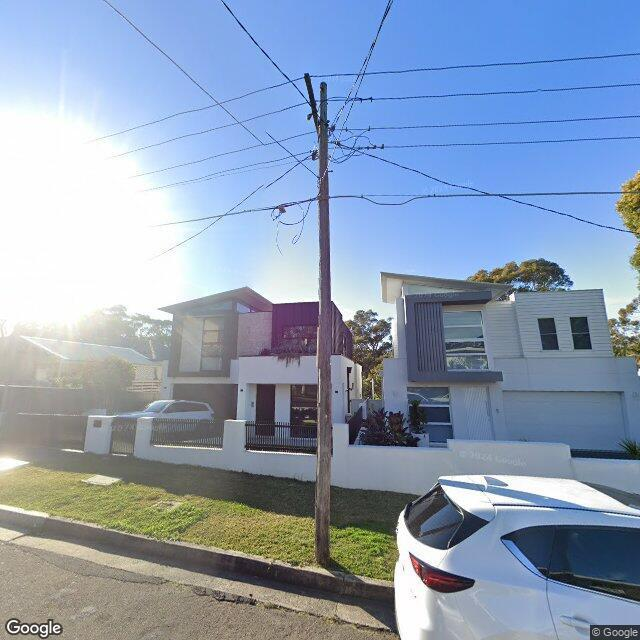crossarm: (302, 72, 320, 136)
timber-pole: (316, 79, 330, 560)
